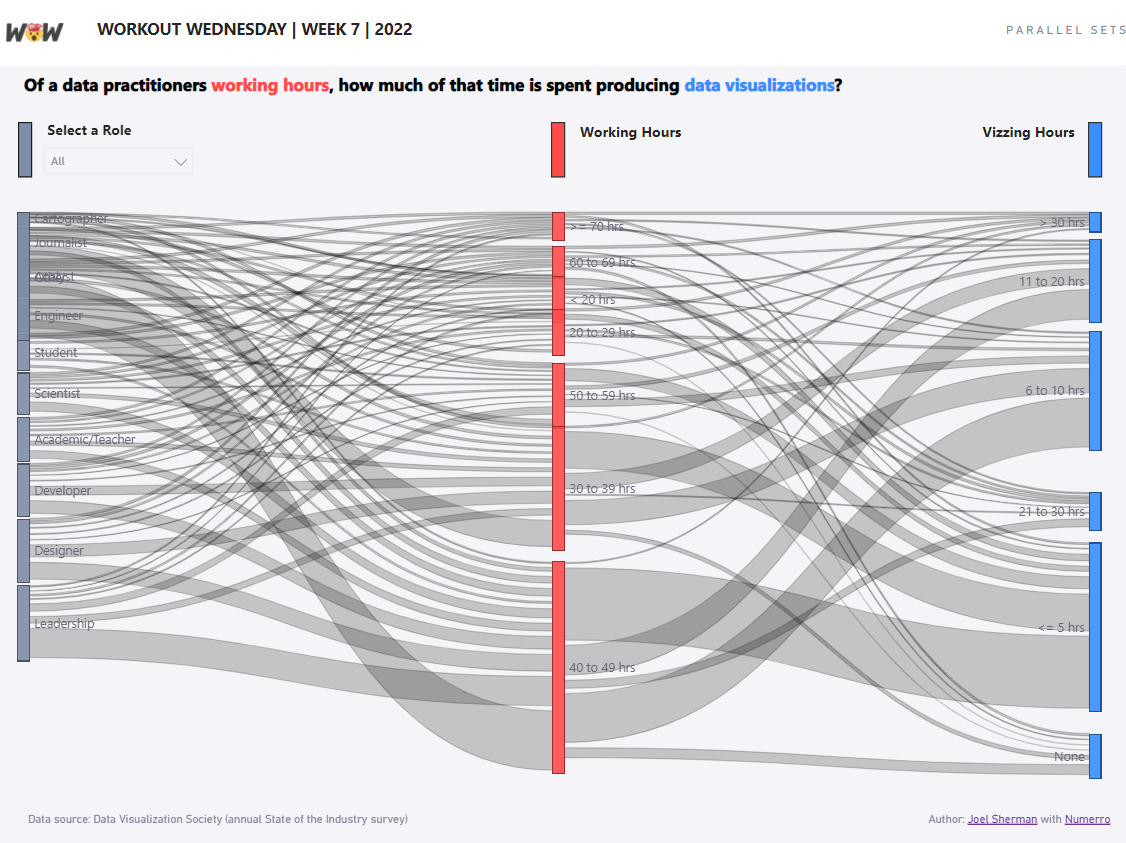

This screenshot's page, from the dashboard's own definition file:
{"tool":"powerbi","page":{"name":"Page 1","canvas":[960,720],"ordinal":0},"visuals":[{"type":"image","box":[0,0,58.8,58.8],"z":0,"group":"g1"},{"type":"sankey02300D1BE6F5427989F3DE31CCA9E0F32020","fields":{"Source":["factData.Source"],"Destination":["factData.Target"],"Weight":["Sum(factData.Responses)"]},"box":[0,163.1,960.3,522.7],"z":0},{"type":"slicer","fields":{"Values":["dimRole.Role"]},"box":[27.2,99.1,147.3,71.9],"z":1},{"type":"shape","box":[14.9,106.1,12.3,47.4],"z":2},{"type":"shape","box":[467.4,106.1,12.3,47.4],"z":3},{"type":"textbox","box":[486.7,100.9,118.4,34.2],"z":4},{"type":"shape","box":[922.6,106.1,12.3,47.4],"z":5},{"type":"textbox","box":[798.1,100.9,118.4,34.2],"z":6},{"type":"group","id":"g1","title":"Header","box":[0,0,1262.4,58.9],"z":7},{"type":"textbox","title":"SALES BY QUANTITY","box":[614.2,16.7,345.8,42.2],"z":8},{"type":"group","id":"g2","title":"Footer","box":[18.4,685.8,930.5,23.7],"z":9},{"type":"textbox","box":[14.9,58.8,920,40.3],"z":10},{"type":"textbox","title":"WORKOUT WEDNESDAY | WEEK 7 | 2022","box":[77.6,16.7,405.7,42.2],"z":1000,"group":"g1"},{"type":"textbox","title":"SALES BY QUANTITY","box":[916.6,16.7,345.8,42.2],"z":2000,"group":"g1"},{"type":"textbox","title":"Data source","box":[18.4,685.8,413.1,23.7],"z":4000,"group":"g2"},{"type":"textbox","title":"Author","box":[663,685.8,285.9,23.7],"z":5000,"group":"g2"}]}

Visuals, with their boxes in screenshot pixels (x1, y1, x2, y2), scaled from the page's 960x720 canvas onto the 1126x843 screenshot:
image: bbox(0, 0, 69, 69)
sankey02300D1BE6F5427989F3DE31CCA9E0F32020 - factData.Source x factData.Target: bbox(0, 191, 1125, 803)
slicer - dimRole.Role: bbox(32, 116, 205, 200)
shape: bbox(17, 124, 32, 180)
shape: bbox(548, 124, 563, 180)
textbox: bbox(571, 118, 710, 158)
shape: bbox(1082, 124, 1097, 180)
textbox: bbox(936, 118, 1075, 158)
"Header" group: bbox(0, 0, 1125, 69)
"SALES BY QUANTITY" textbox: bbox(720, 20, 1125, 69)
"Footer" group: bbox(22, 803, 1113, 831)
textbox: bbox(17, 69, 1097, 116)
"WORKOUT WEDNESDAY | WEEK 7 | 2022" textbox: bbox(91, 20, 567, 69)
"SALES BY QUANTITY" textbox: bbox(1075, 20, 1125, 69)
"Data source" textbox: bbox(22, 803, 506, 831)
"Author" textbox: bbox(778, 803, 1113, 831)
